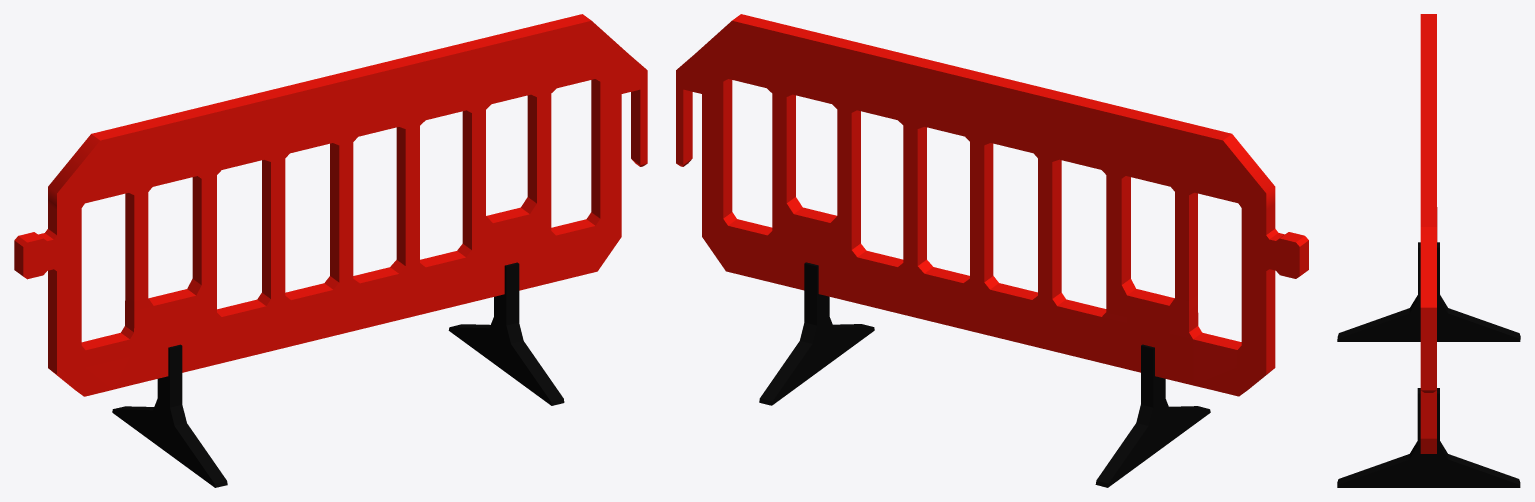
Rendered from Plastic barrier.fbx.
3 renders of one model, left to right at view 1: azimuth 30°, elevation 25°; view 2: azimuth 150°, elevation 25°; view 3: azimuth 270°, elevation 25°, orthographic. The views are drawn at different scales.
Parts seen in each view (by area): view 1: Box002; view 2: Box002; view 3: Box002.
Part boxes in pixels (box(x1,y1,x2,y2)): Box002: box(14, 14, 647, 487); Box002: box(676, 14, 1308, 487); Box002: box(1337, 14, 1520, 487).
Size of the model in its own units: 86.27 by 43.56 by 24.71.
